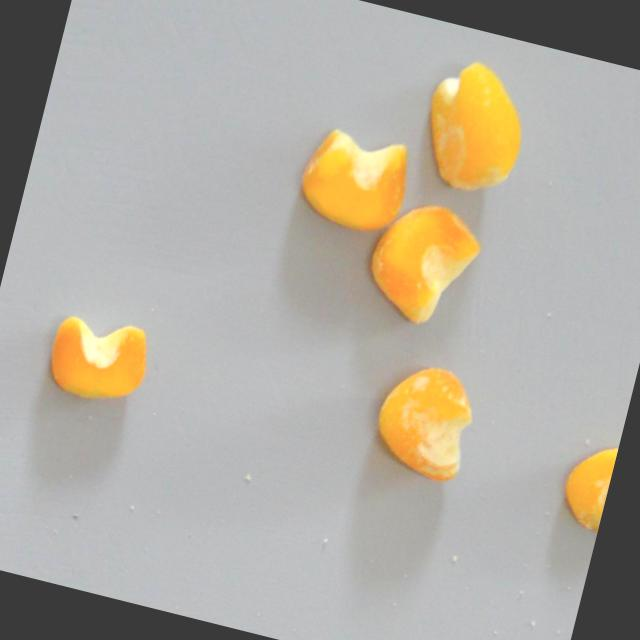no_canjicado: (41, 308, 154, 411)
pelicula: (407, 52, 537, 199), (358, 192, 488, 336), (362, 355, 486, 489), (290, 122, 415, 238), (551, 434, 619, 536)
